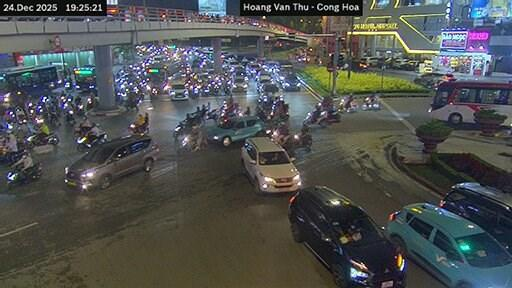motorbike: (272, 131, 312, 154), (6, 162, 41, 187), (304, 108, 339, 126), (76, 131, 105, 151), (25, 133, 58, 148), (172, 120, 195, 139), (0, 149, 22, 165), (362, 95, 380, 109), (339, 99, 358, 111), (128, 122, 147, 133), (73, 126, 90, 138), (124, 98, 140, 109), (44, 112, 57, 125), (64, 108, 73, 125), (74, 103, 83, 116)
